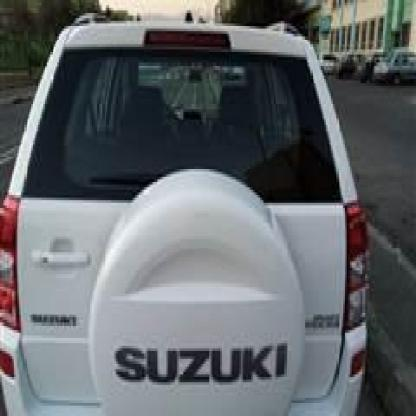Car: (0, 2, 374, 416), (369, 52, 416, 86), (317, 54, 348, 80)
